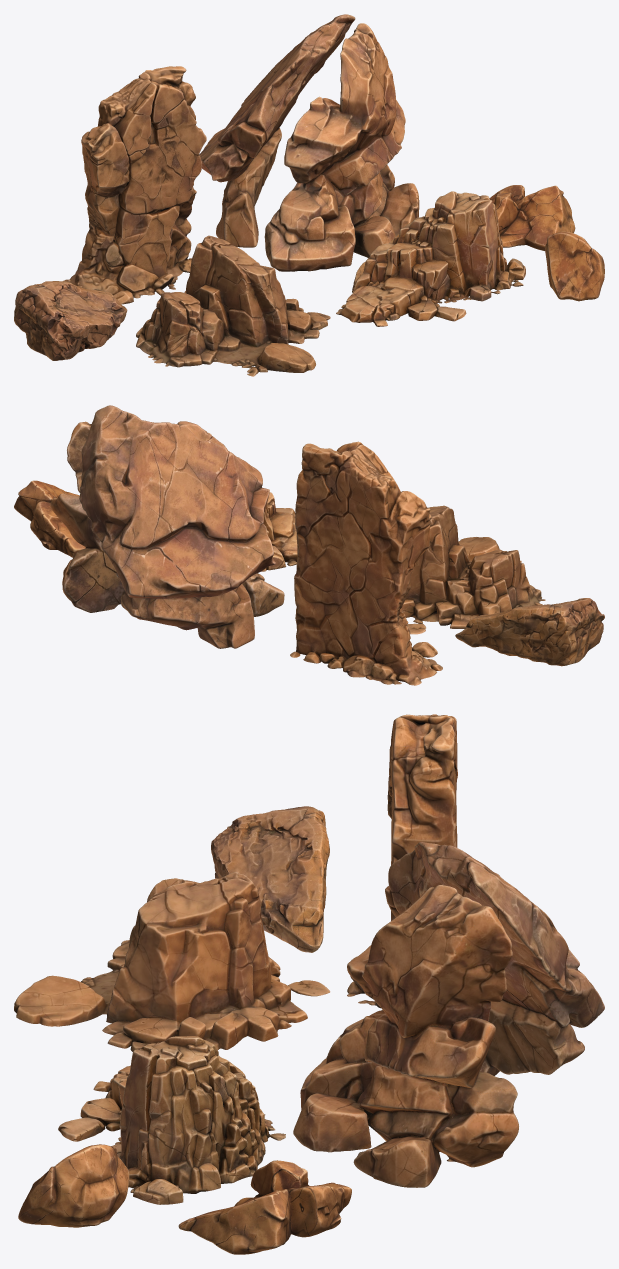
The model's file is formation.glb.
3 renders of one model, top to bottom at view 1: azimuth 30°, elevation 25°; view 2: azimuth 150°, elevation 25°; view 3: azimuth 270°, elevation 25°, orthographic. The views are drawn at different scales.
Parts seen in each view (by area): view 1: Rock4 (60K)_3, Rock5a (37K)_4, Rock1 (38K)_1, Rock2 (41K)_2, Rock5c (23K)_5, Rock5b (11K)_6, Rock3 (5K)_0; view 2: Rock5c (23K)_5, Rock4 (60K)_3, Rock1 (38K)_1, Rock3 (5K)_0, Rock5a (37K)_4, Rock5b (11K)_6, Rock2 (41K)_2; view 3: Rock5a (37K)_4, Rock1 (38K)_1, Rock2 (41K)_2, Rock5c (23K)_5, Rock5b (11K)_6, Rock3 (5K)_0, Rock4 (60K)_3.
Part boxes in pixels (x1,y1,x2,y2): Rock4 (60K)_3: [63, 66, 206, 304]; Rock5a (37K)_4: [264, 23, 419, 271]; Rock1 (38K)_1: [136, 235, 330, 376]; Rock2 (41K)_2: [336, 191, 525, 326]; Rock5c (23K)_5: [199, 14, 355, 247]; Rock5b (11K)_6: [489, 185, 604, 301]; Rock3 (5K)_0: [14, 281, 127, 360]; Rock5c (23K)_5: [79, 405, 275, 648]; Rock4 (60K)_3: [290, 441, 442, 685]; Rock1 (38K)_1: [401, 505, 545, 634]; Rock3 (5K)_0: [455, 598, 604, 666]; Rock5a (37K)_4: [50, 421, 284, 616]; Rock5b (11K)_6: [14, 480, 85, 557]; Rock2 (41K)_2: [207, 432, 297, 571]; Rock5a (37K)_4: [293, 885, 518, 1187]; Rock1 (38K)_1: [14, 871, 330, 1051]; Rock2 (41K)_2: [58, 1036, 285, 1204]; Rock5c (23K)_5: [385, 842, 604, 1075]; Rock5b (11K)_6: [18, 1144, 351, 1254]; Rock3 (5K)_0: [211, 806, 329, 952]; Rock4 (60K)_3: [347, 714, 457, 1008].
Size of the model in its own units: 2.9 by 1.01 by 1.87.
Materials: 7 (7 with a texture image).
